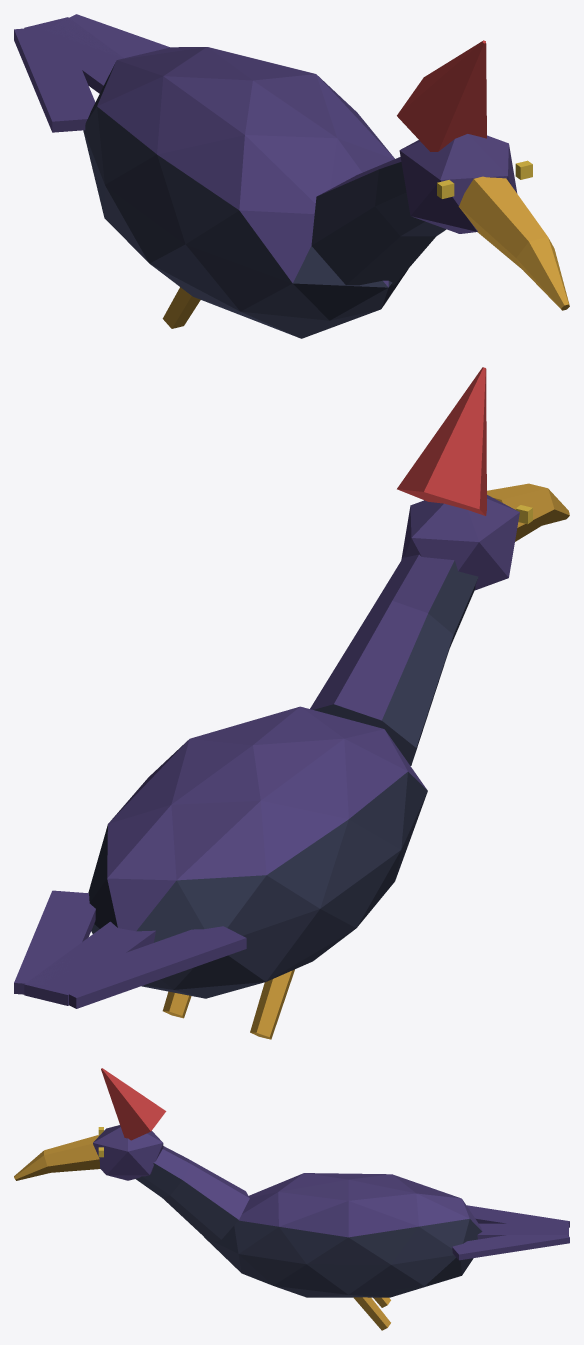
The model's file is bird_body.glb.
3 views of the same model, one above another, from view 1: azimuth 30°, elevation 25°; view 2: azimuth 150°, elevation 25°; view 3: azimuth 270°, elevation 25° (orthographic). The views are drawn at different scales.
Parts seen in each view (by area): view 1: bird_body; view 2: bird_body; view 3: bird_body.
Part boxes in pixels (<box>): bird_body: <box>14,14,569,338</box>; bird_body: <box>14,367,569,1039</box>; bird_body: <box>14,1068,569,1330</box>.
Size of the model in its own units: 2.46 by 5.12 by 10.34.
